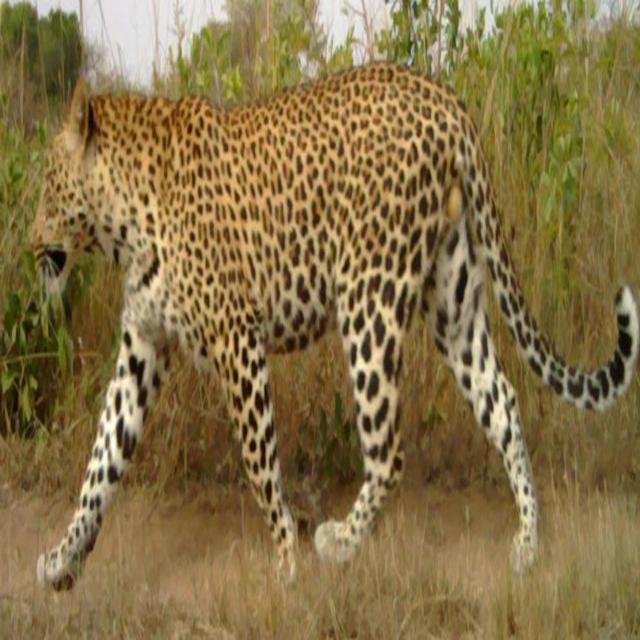Leopard: (12, 44, 640, 626)
